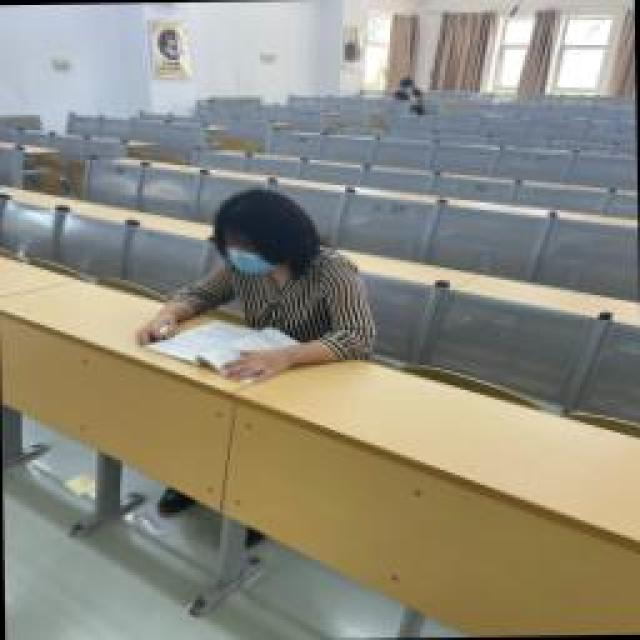study: (135, 187, 380, 385)
